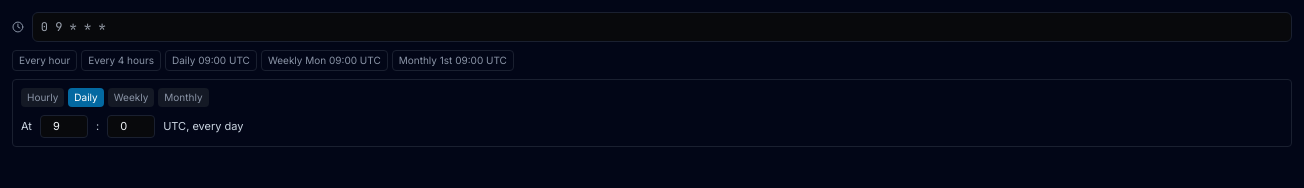
Test: CronBuilder › shows an inline error for an invalid expression
The width and height of the screenshot is (1304, 188).
Type "not-a-cron" into the field with placeholder "0 9 * * *" at (662, 27), box x1=32 y1=12 x2=1292 y2=42
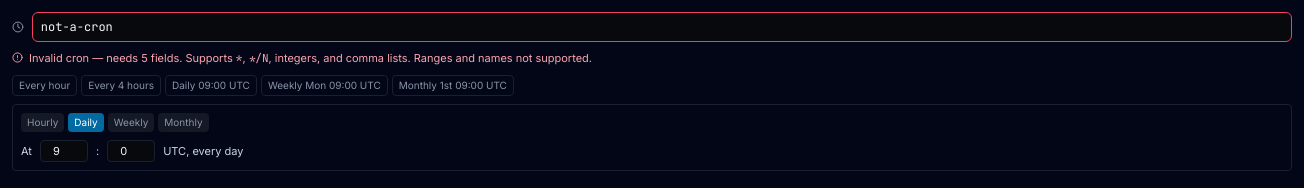
Expected: the text "Invalid cron" is shown, x1=29 y1=51 x2=236 y2=65
